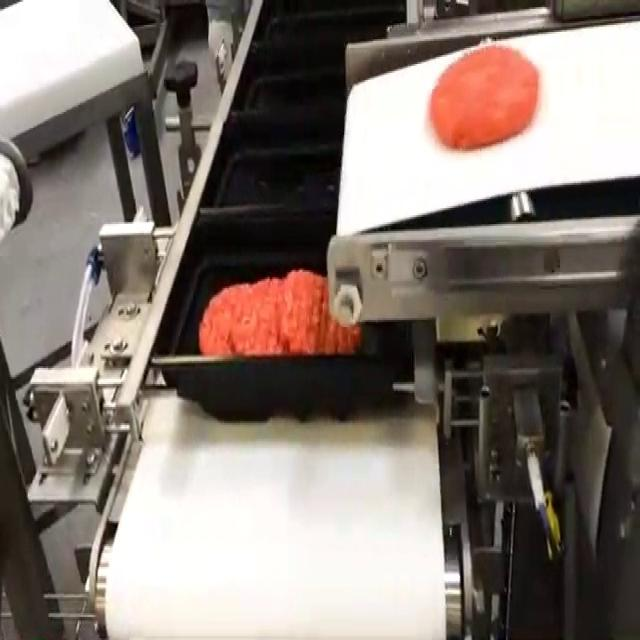hamburguer: (429, 44, 539, 148)
